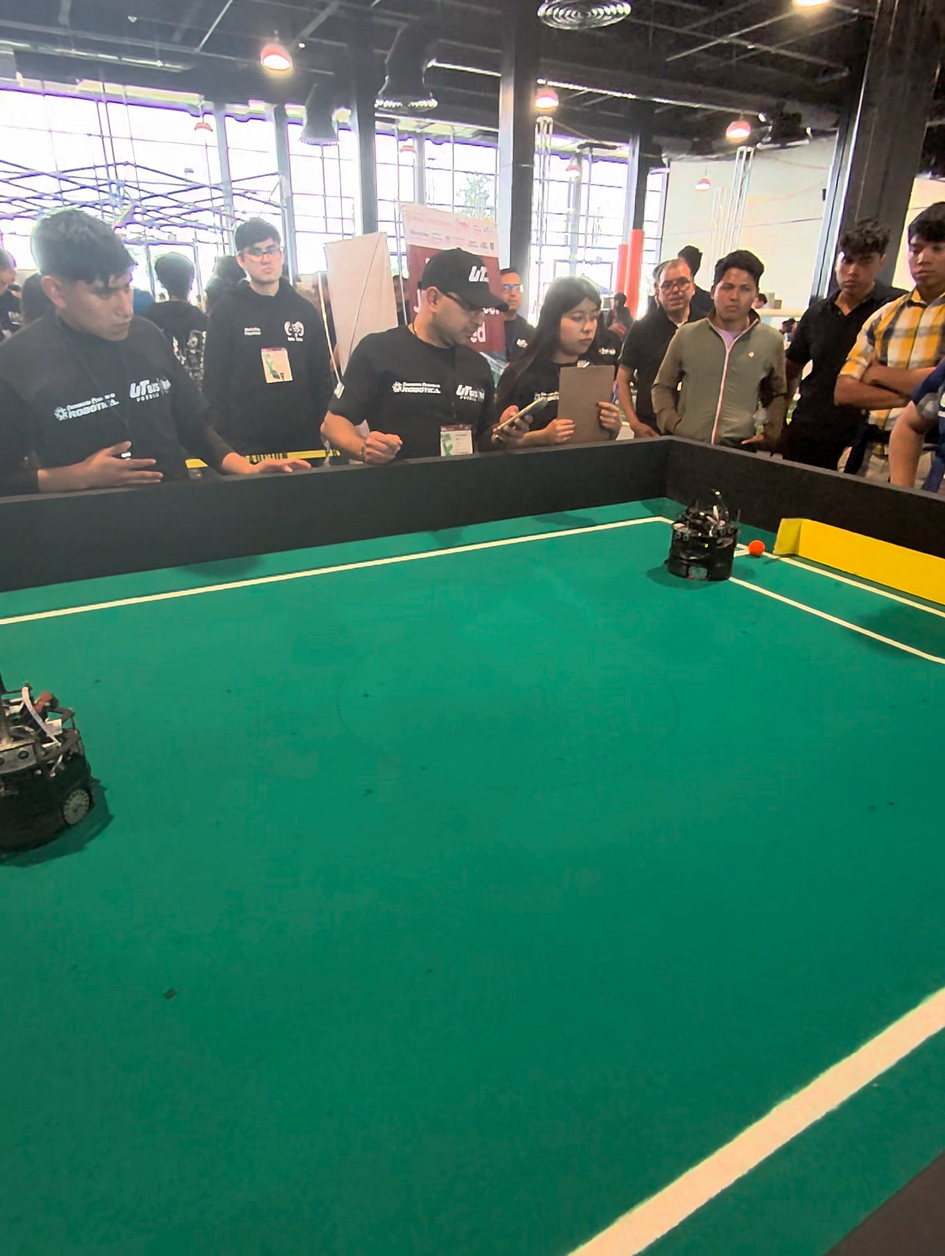Robot: (0, 648, 106, 873), (669, 490, 747, 593)
pelota: (750, 540, 765, 557)
